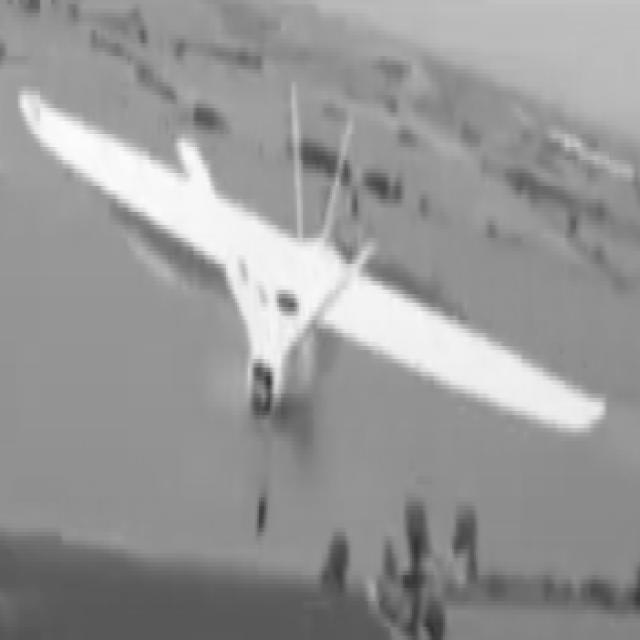iha: (19, 22, 604, 428)
